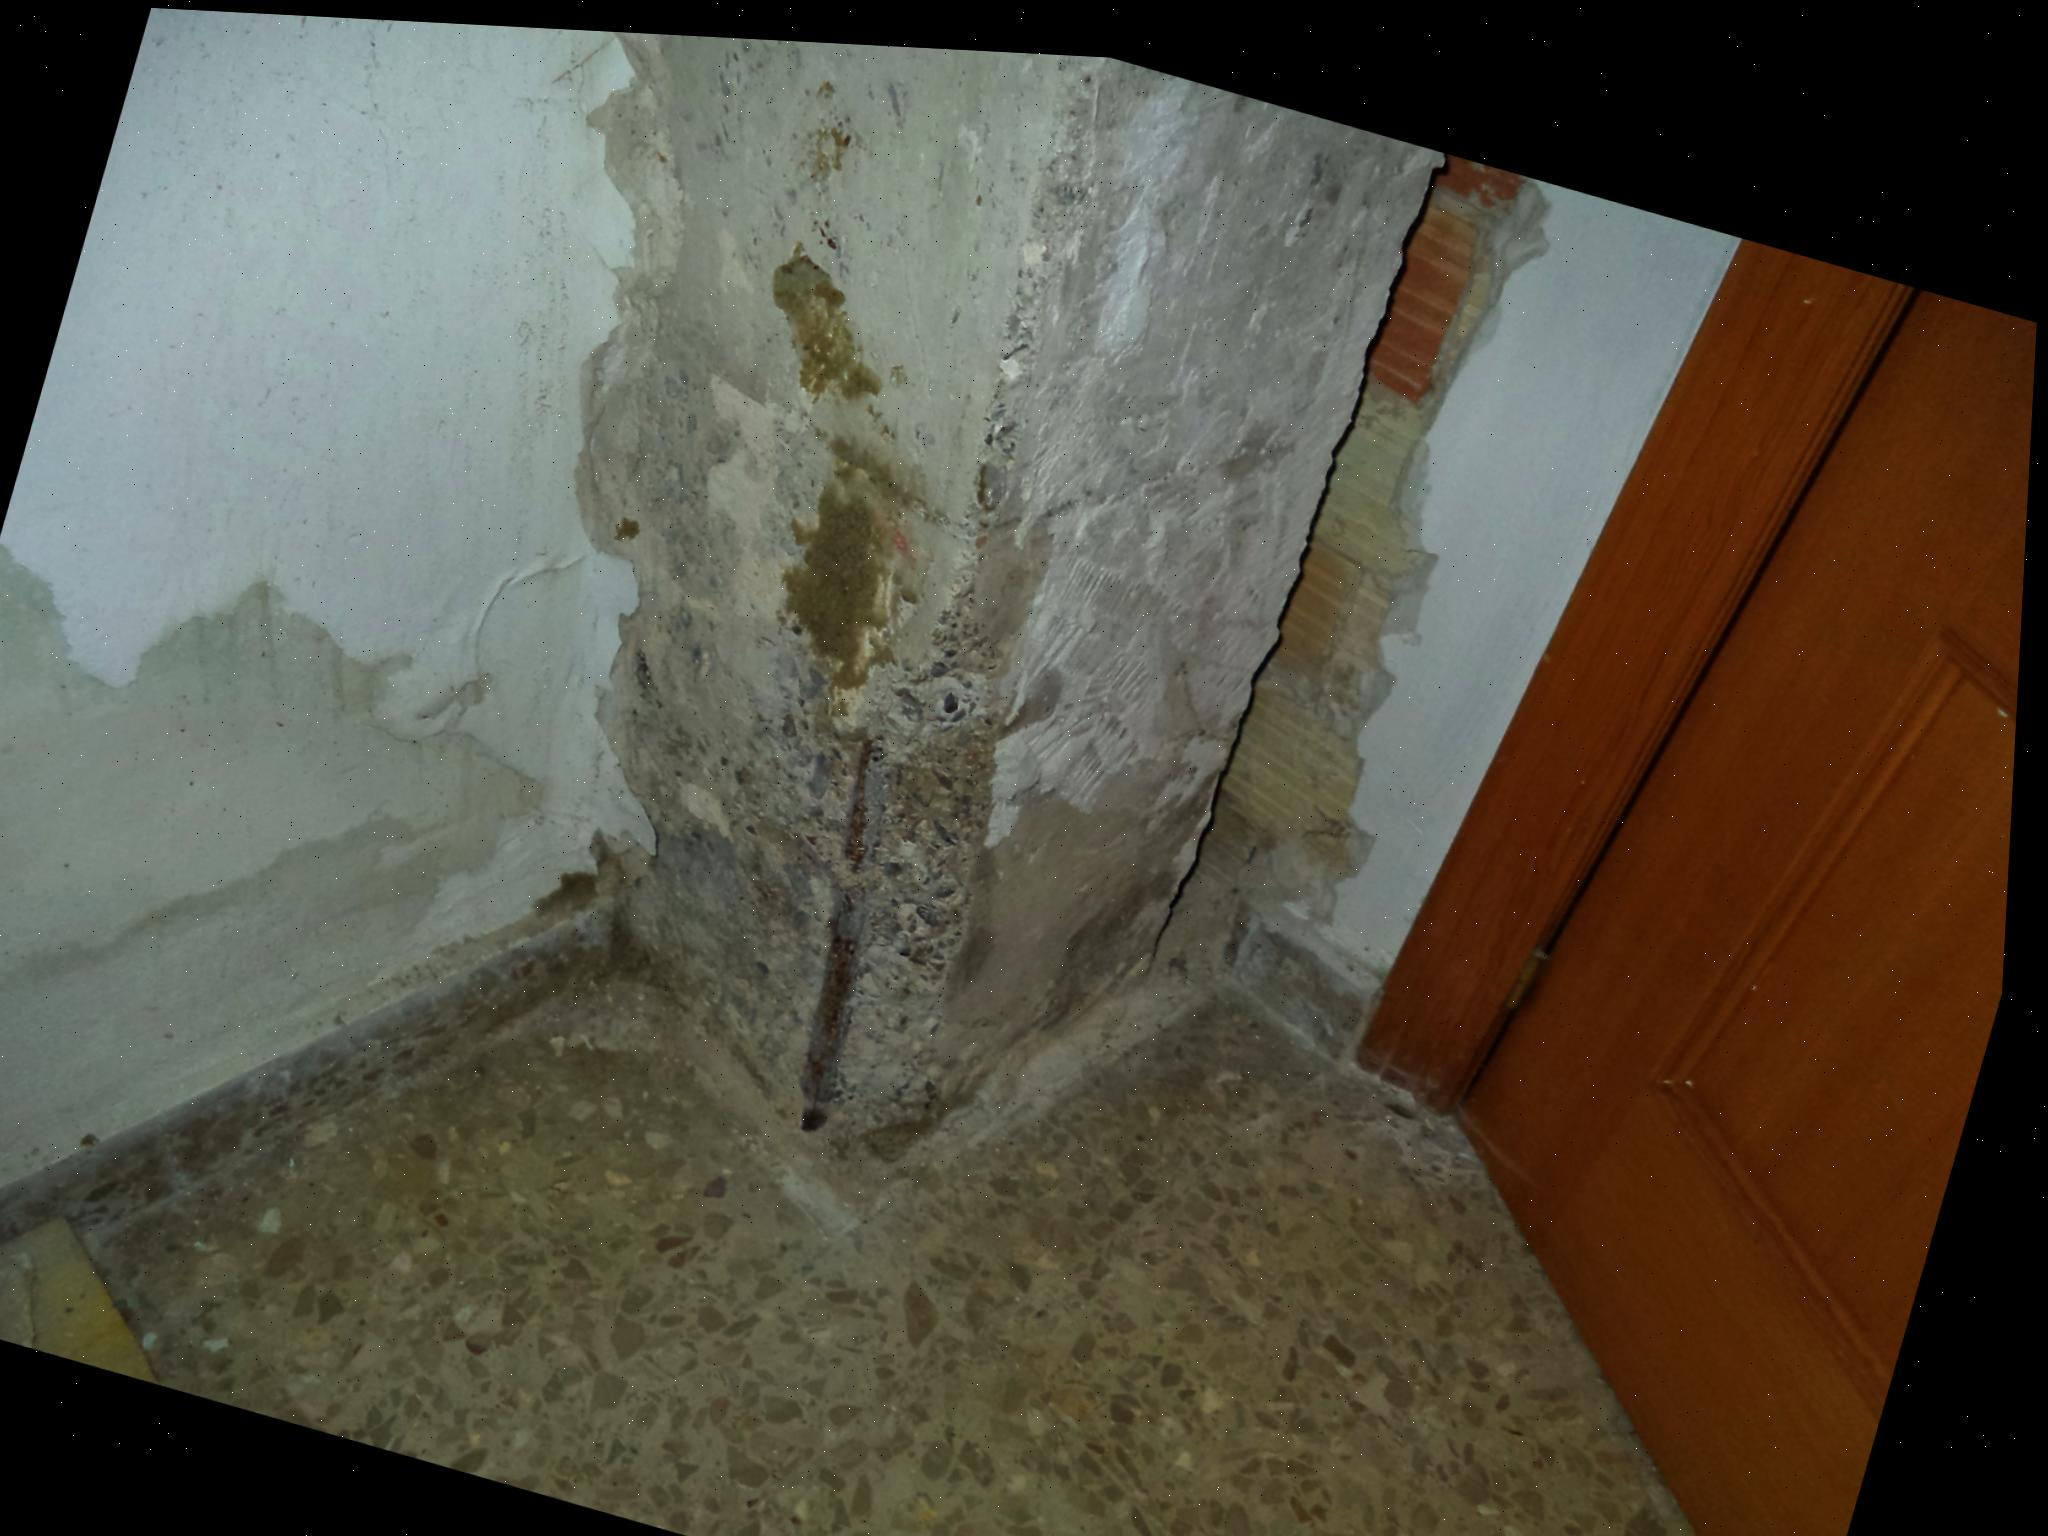spalling: (797, 591, 1001, 1142)
